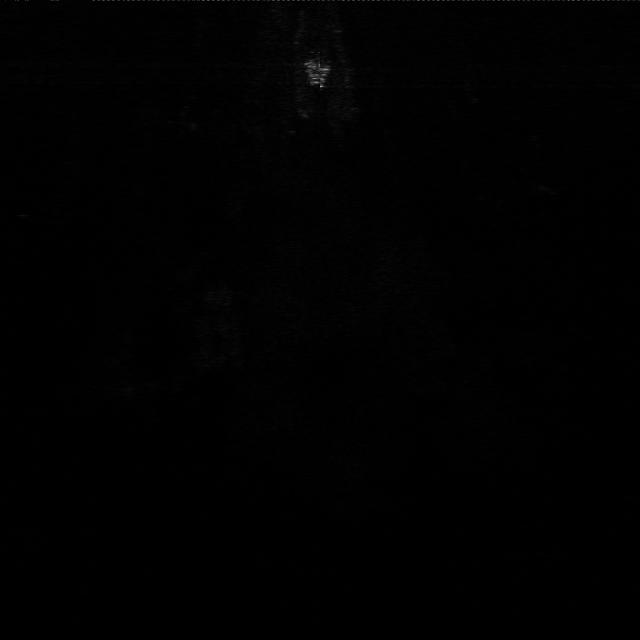rov: (294, 58, 336, 91)
